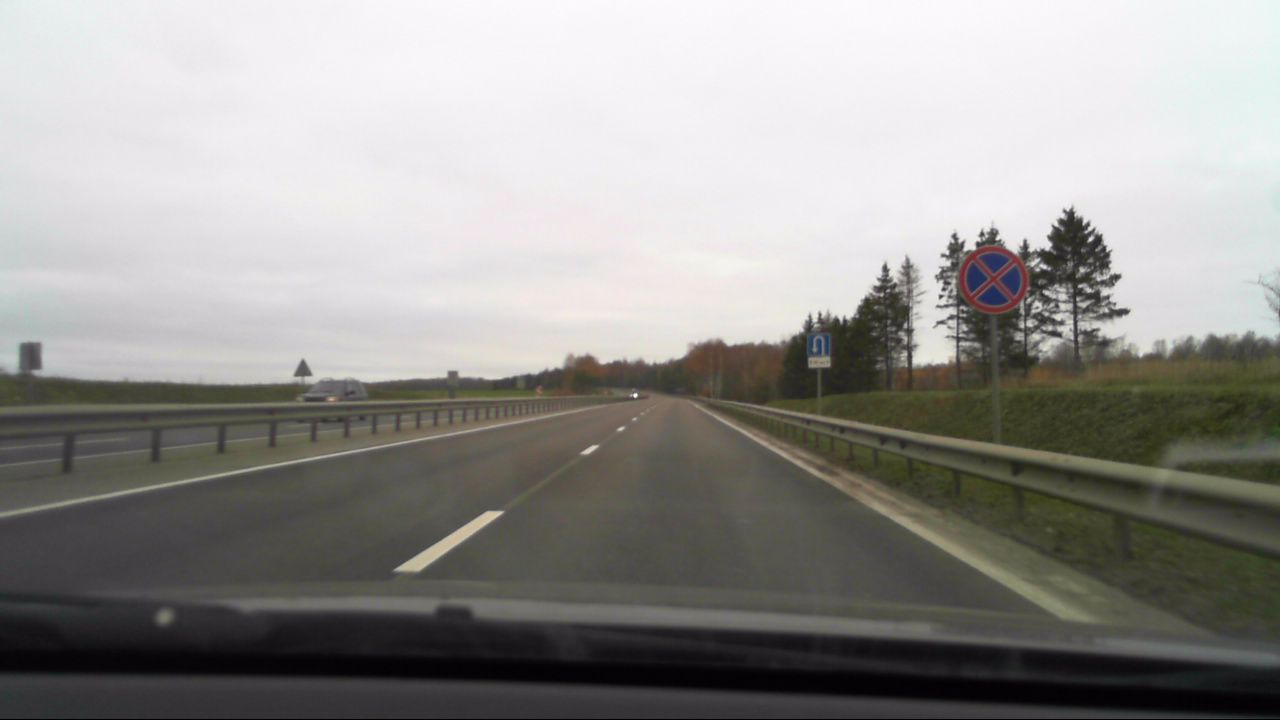No Parking: (957, 243, 1031, 318)
U-turn: (807, 334, 830, 356)
